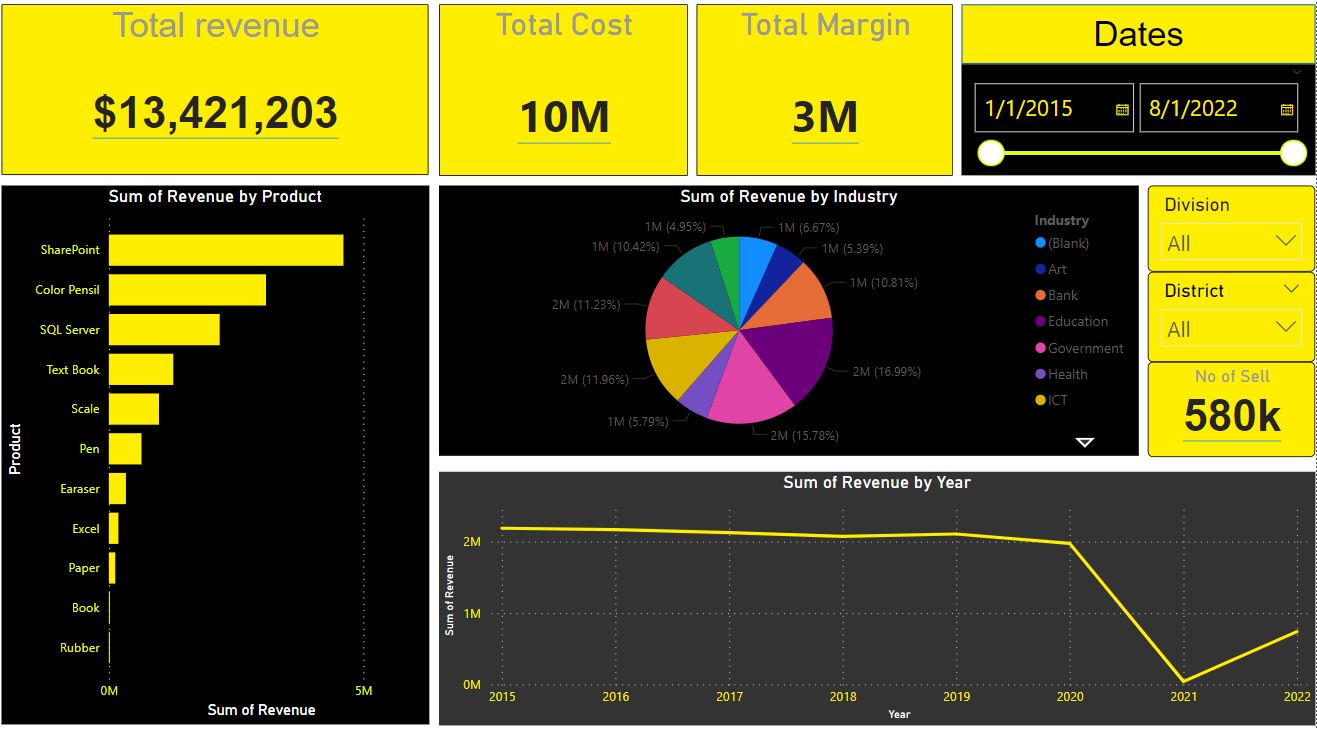

The dashboard page shown, as its layout file describes it:
{"tool":"powerbi","page":{"name":"Page 1","canvas":[1280,720],"ordinal":0},"visuals":[{"type":"textbox","title":"Total revenue","box":[12.3,15.1,411.7,164.7],"z":0},{"type":"textbox","title":"Total Cost","box":[434.2,15.7,240,165.2],"z":1000},{"type":"textbox","title":"Total Margin","box":[682.6,15.7,247.2,165.2],"z":2000},{"type":"shape","box":[938.3,15.7,341.3,57.9],"z":3000},{"type":"slicer","fields":{"Values":["Sheet1.Date"]},"box":[938.3,73.6,341.3,107.3],"z":4000},{"type":"clusteredBarChart","fields":{"Category":["Sheet1.Product"],"Y":["Sum(Sheet1.Revenue)"]},"box":[12.1,190.6,412.5,519.8],"z":5000},{"type":"pieChart","fields":{"Y":["Sum(Sheet1.Revenue)"],"Series":["Customer.Industry"]},"box":[434.2,190.6,675.4,260.5],"z":6000},{"type":"lineChart","fields":{"Category":["Data.Date.Variation.Date Hierarchy.Year"],"Y":["Sum(Data.Revenue)"]},"box":[434.2,466.7,845.4,244.8],"z":7000},{"type":"textbox","title":"No of Sell","box":[1118,360.6,161.6,91.7],"z":8000},{"type":"slicer","title":"District","fields":{"Values":["Sheet3.District"]},"box":[1118,273.8,161.6,86.8],"z":9000},{"type":"slicer","fields":{"Values":["Sheet3.Division"]},"box":[1118,190.6,161.6,83.2],"z":10000}]}

Visuals, with their boxes in screenshot pixels (x1, y1, x2, y2), scaled from the page's 1280x720 canvas onto the 1317x730 screenshot:
"Total revenue" textbox: {"x1": 13, "y1": 15, "x2": 436, "y2": 182}
"Total Cost" textbox: {"x1": 447, "y1": 16, "x2": 694, "y2": 183}
"Total Margin" textbox: {"x1": 702, "y1": 16, "x2": 957, "y2": 183}
shape: {"x1": 965, "y1": 16, "x2": 1316, "y2": 75}
slicer - Sheet1.Date: {"x1": 965, "y1": 75, "x2": 1316, "y2": 183}
clusteredBarChart - Sheet1.Product x Sum(Sheet1.Revenue): {"x1": 12, "y1": 193, "x2": 437, "y2": 720}
pieChart - Sum(Sheet1.Revenue) x Customer.Industry: {"x1": 447, "y1": 193, "x2": 1142, "y2": 457}
lineChart - Data.Date.Variation.Date Hierarchy.Year x Sum(Data.Revenue): {"x1": 447, "y1": 473, "x2": 1316, "y2": 721}
"No of Sell" textbox: {"x1": 1150, "y1": 366, "x2": 1316, "y2": 459}
"District" slicer: {"x1": 1150, "y1": 278, "x2": 1316, "y2": 366}
slicer - Sheet3.Division: {"x1": 1150, "y1": 193, "x2": 1316, "y2": 278}
